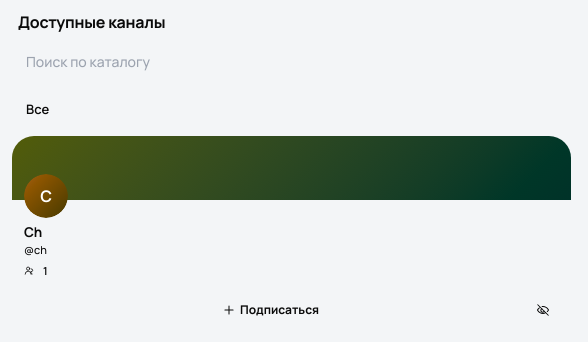
ChannelCatalogSection › subscribes via POST /sources/{id} when "+ Подписаться" clicked
Check: the text "Ch" is shown, box [24,223,42,241]
Click the button "Подписаться".
click(270, 310)  # box [22,294,519,326]
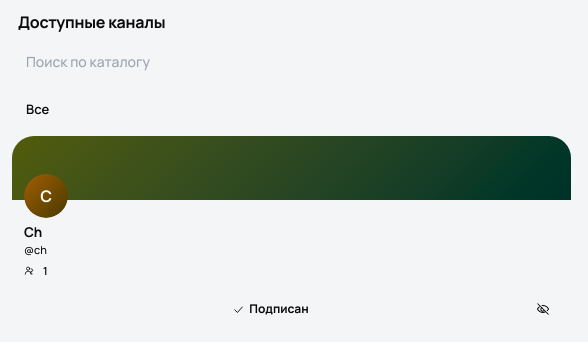
Check: the button "Подписан" is shown, box [22,294,519,325]
